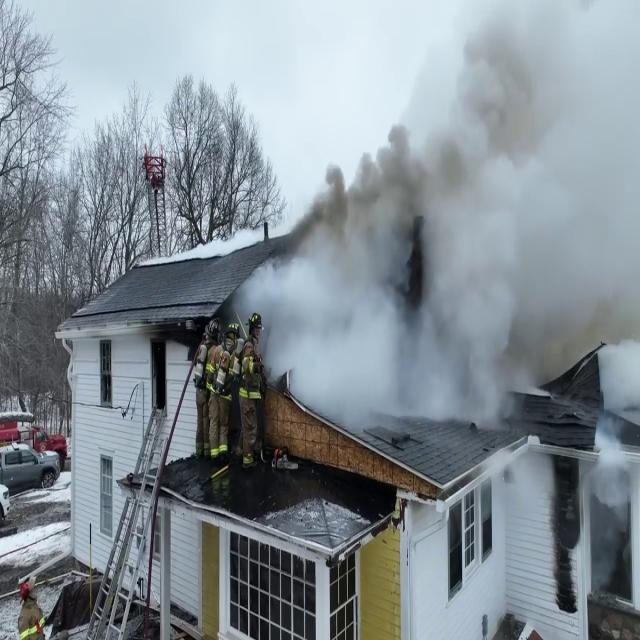Smoke: (235, 1, 640, 424)
